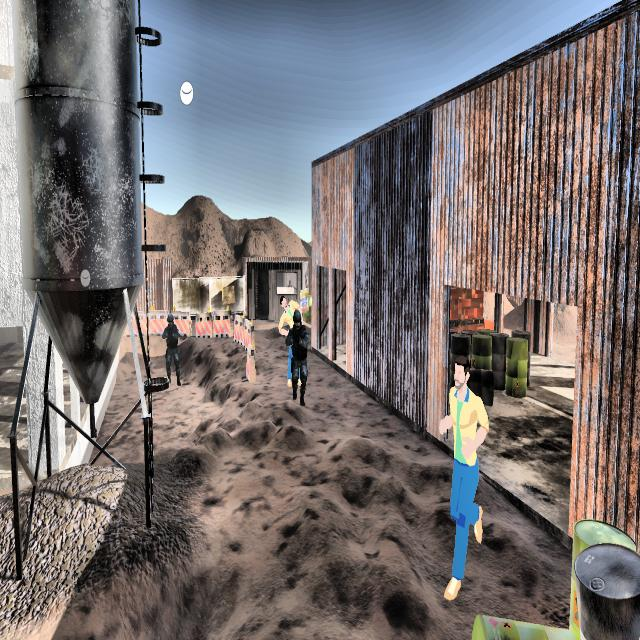bad: (161, 302, 186, 394), (289, 314, 310, 398)
good: (427, 331, 491, 604), (276, 288, 302, 328)
